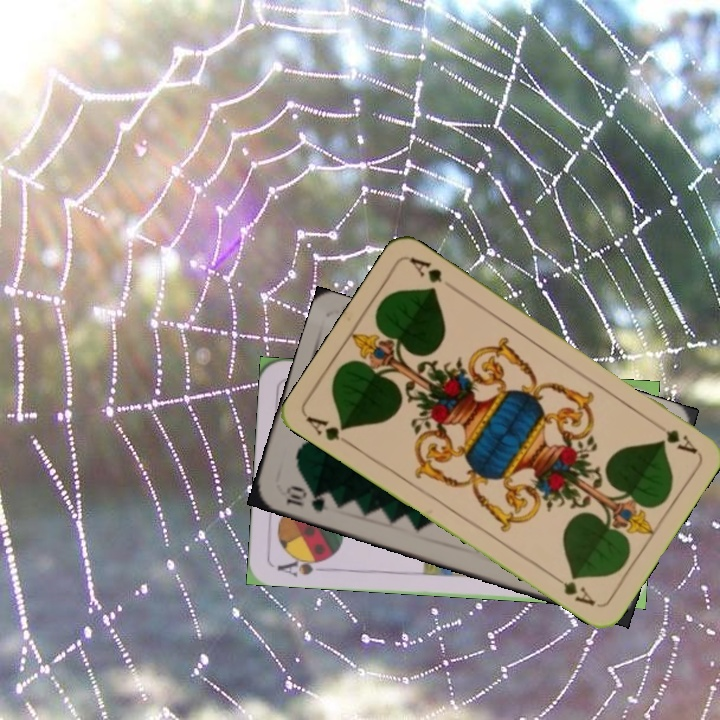G10: (282, 481, 328, 515)
GA: (302, 412, 357, 450), (661, 425, 700, 457)
SA: (273, 552, 332, 579)
